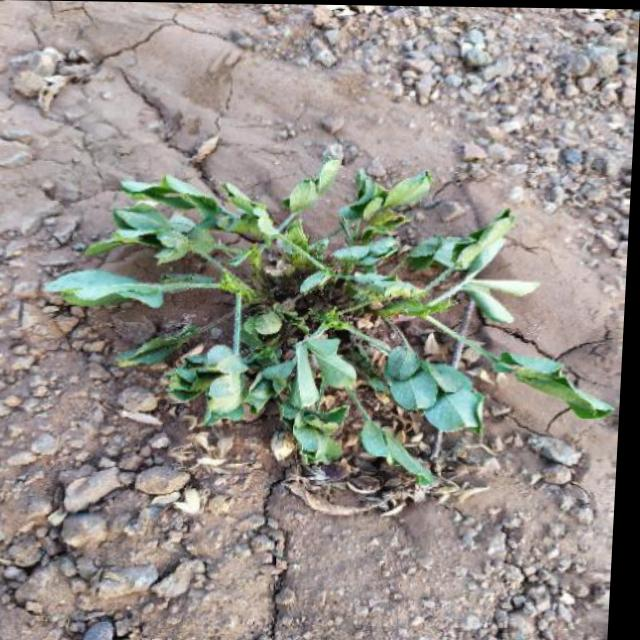weed: (25, 131, 619, 503)
